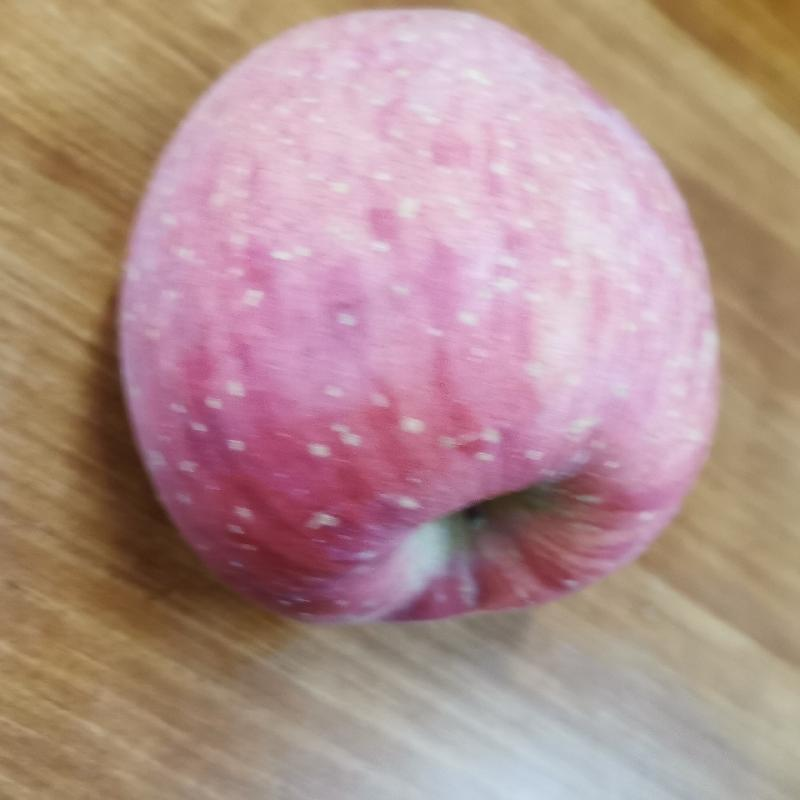apples: (104, 7, 734, 626)
